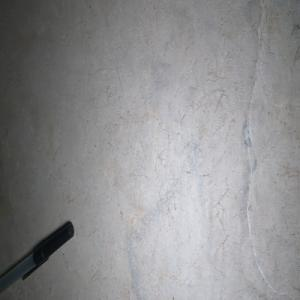Pen: (0, 221, 73, 293)
